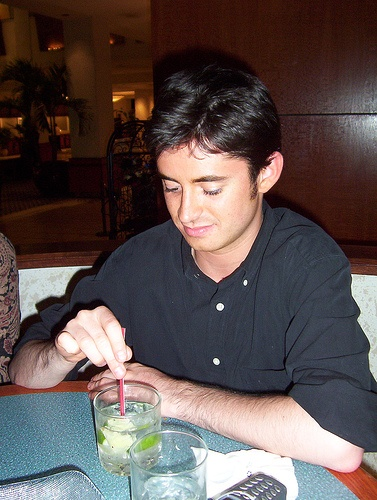head: (145, 60, 286, 253)
person: (1, 60, 377, 475)
